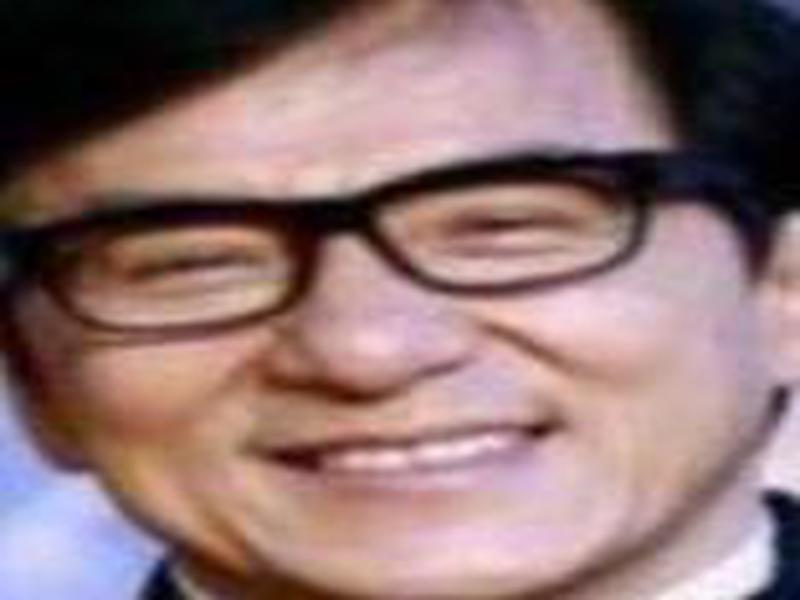without_mask: (42, 121, 748, 584)
